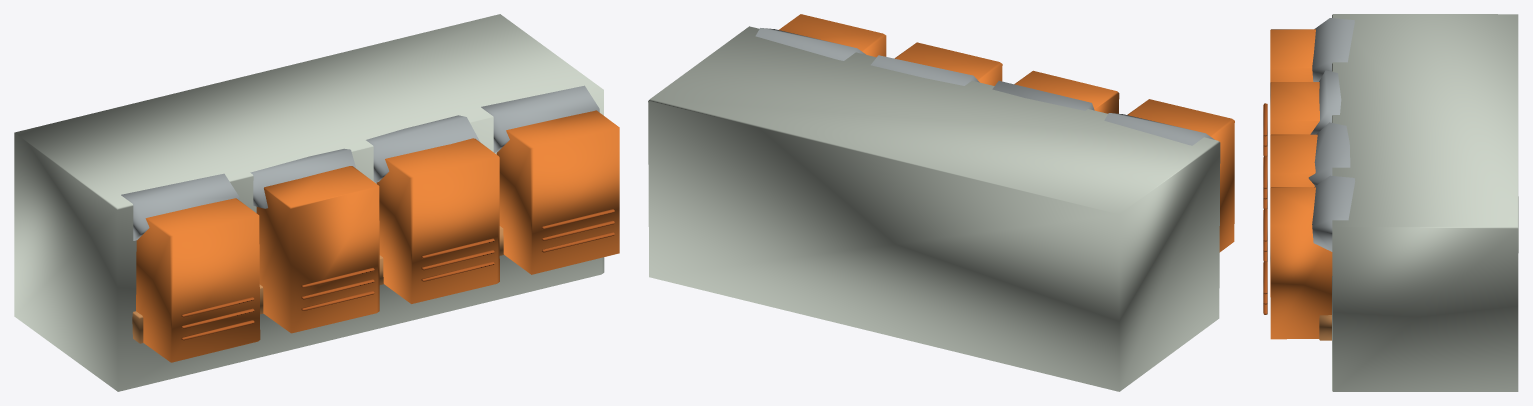
Rendered from terminal_lever-connector.low.glb.
The picture shows the model from 3 angles, left to right: view 1: azimuth 30°, elevation 25°; view 2: azimuth 150°, elevation 25°; view 3: azimuth 270°, elevation 25°; orthographic projection. The views are drawn at different scales.
Visible parts, largest first — view 1: node-4, node-3 · Original material.002, node-3 · Original material.003, node-3 · Original material.004, node-5; view 2: node-4, node-3 · Original material.002, node-3 · Original material.003; view 3: node-4, node-3 · Original material.002, node-3 · Original material.003, node-3 · Original material.004, node-5.
Part boxes in pixels (x1,y1,x2,y2): node-4: [14, 14, 604, 391]; node-3 · Original material.002: [136, 110, 619, 362]; node-3 · Original material.003: [121, 85, 599, 240]; node-3 · Original material.004: [181, 209, 614, 340]; node-5: [132, 226, 503, 343]; node-4: [648, 26, 1220, 391]; node-3 · Original material.002: [779, 14, 1234, 252]; node-3 · Original material.003: [755, 28, 1214, 145]; node-4: [1332, 14, 1518, 391]; node-3 · Original material.002: [1270, 29, 1332, 339]; node-3 · Original material.003: [1308, 18, 1355, 251]; node-3 · Original material.004: [1263, 103, 1267, 314]; node-5: [1319, 315, 1331, 340].
Bounding box in the file's own units: 0.9745 × 0.3704 × 0.4917.
